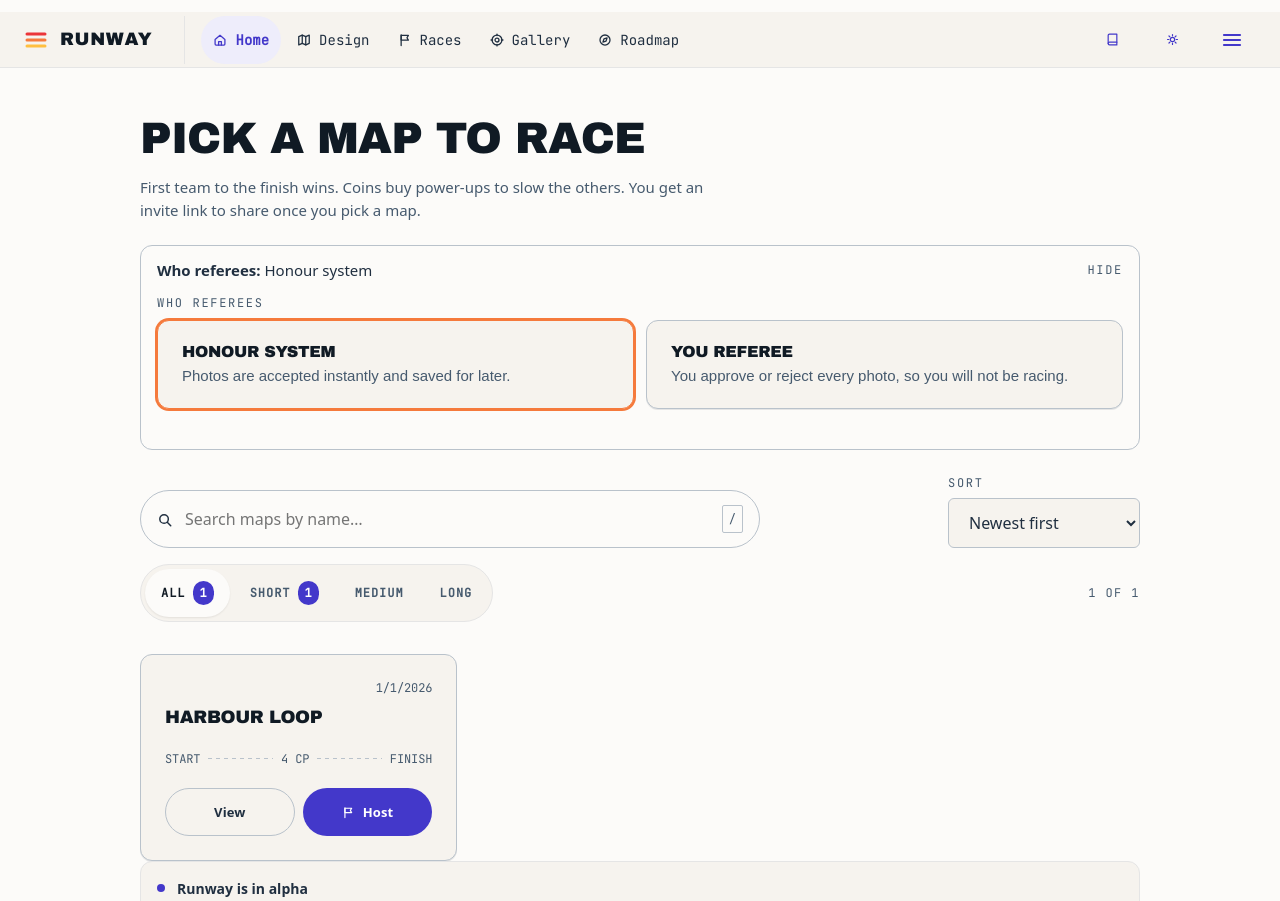
Scenario: PlayLauncher › shows a plain sentence instead of a raw fetch error
Step 1. Click the button "Host" → (368, 812), box [303,788,432,836]
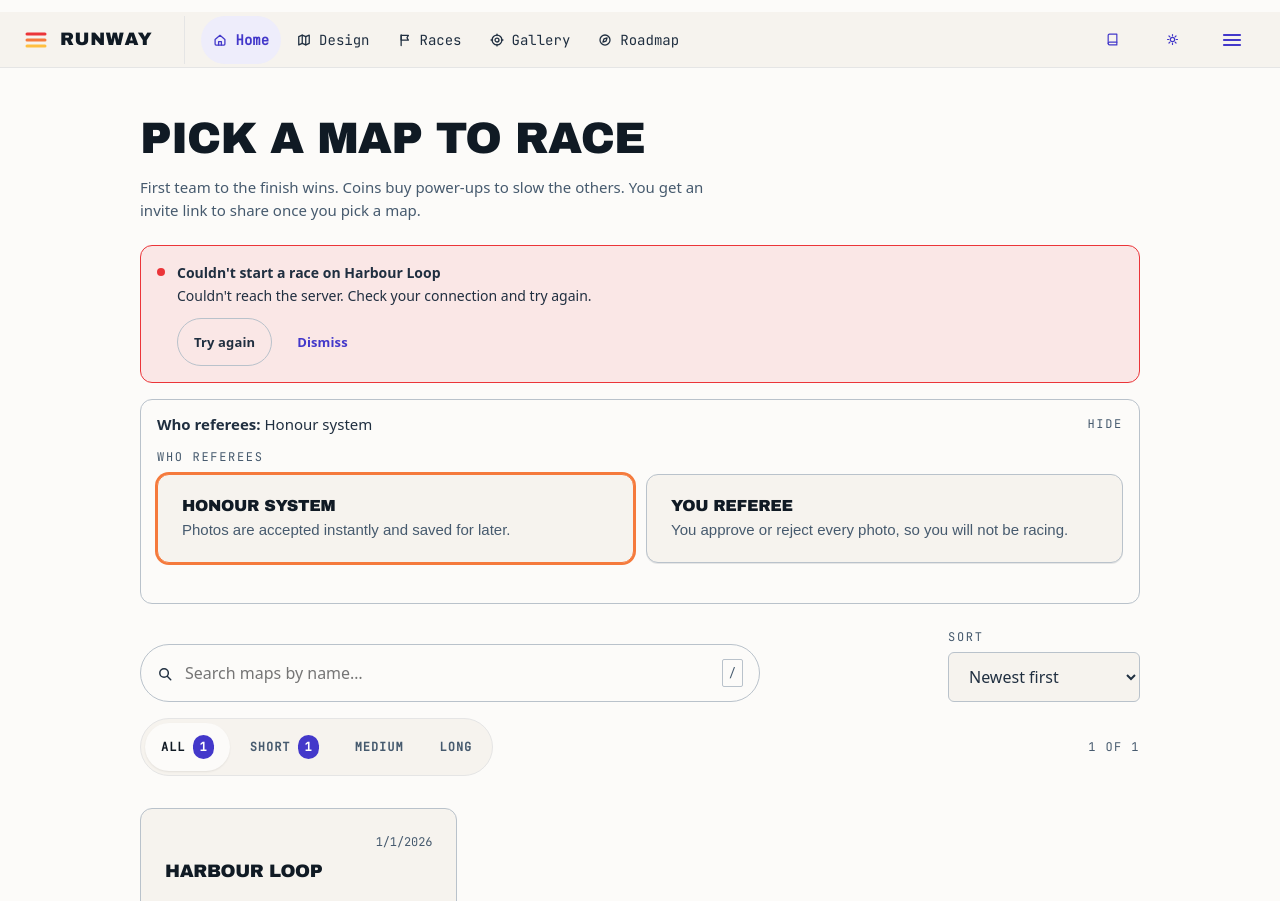
Expected: the text "Couldn't reach the server" is shown, [177,286,592,305]
